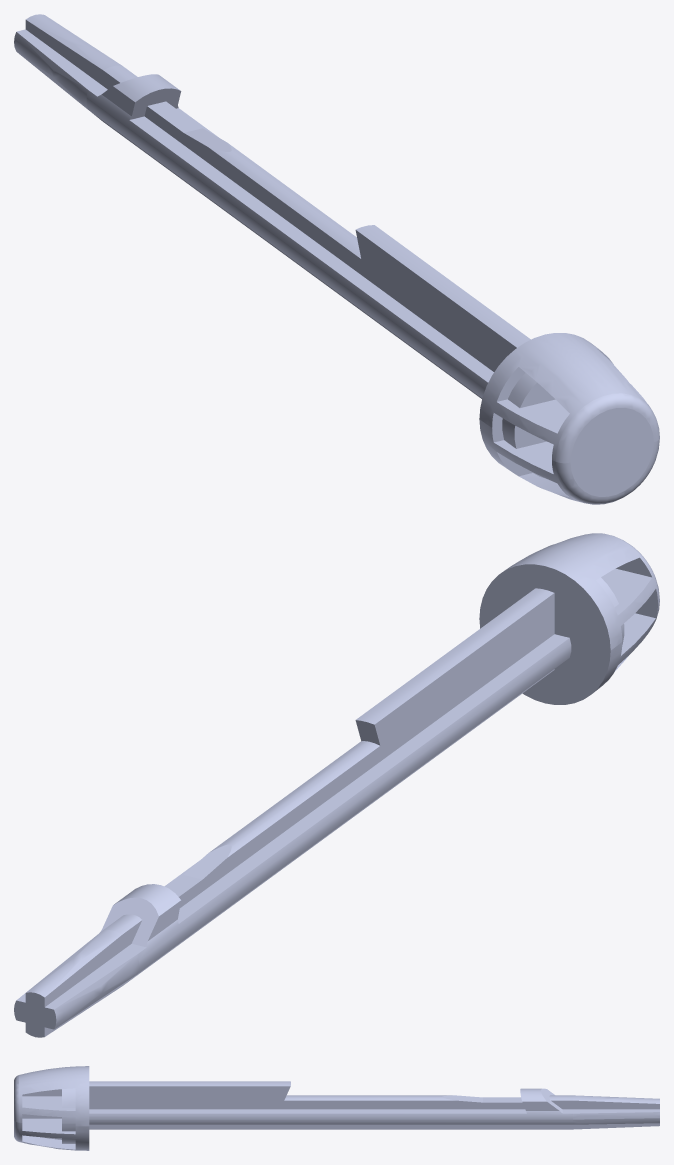
The model's file is Large Spring Dart (228-2500-1394).glb.
3 renders of one model, top to bottom at view 1: azimuth 30°, elevation 25°; view 2: azimuth 150°, elevation 25°; view 3: azimuth 270°, elevation 25°, orthographic. The views are drawn at different scales.
Parts seen in each view (by area): view 1: Large Spring Dart (228-2500-1394); view 2: Large Spring Dart (228-2500-1394); view 3: Large Spring Dart (228-2500-1394).
Part boxes in pixels (x1,y1,x2,y2): Large Spring Dart (228-2500-1394): (14, 14, 659, 504); Large Spring Dart (228-2500-1394): (14, 533, 659, 1037); Large Spring Dart (228-2500-1394): (14, 1066, 659, 1150).
Bounding box in the file's own units: 0.4882 × 0.4882 × 3.72.
